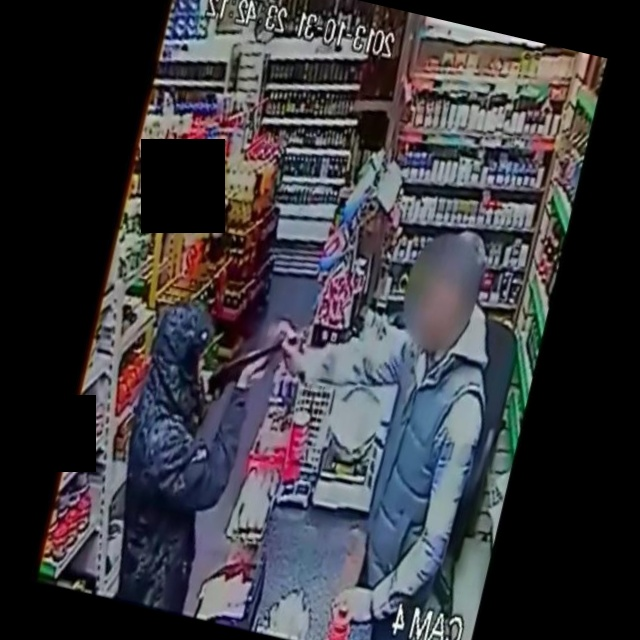gun: (201, 303, 312, 410)
